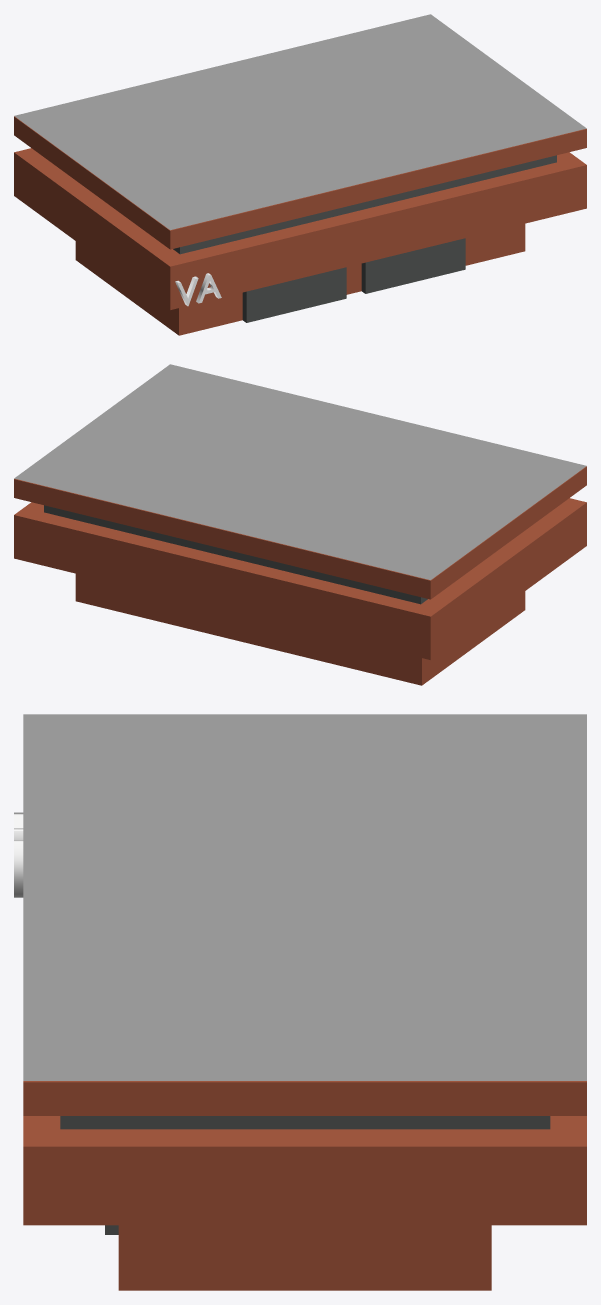
The model's file is block_VA.glb.
3 views of the same model, one above another, from view 1: azimuth 30°, elevation 25°; view 2: azimuth 150°, elevation 25°; view 3: azimuth 270°, elevation 25° (orthographic). The views are drawn at different scales.
Parts seen in each view (by area): view 1: Cube.003, Cube.002, Cube.022, Cube.023, Cube.001, Cube.024, Cube.021, Text; view 2: Cube.003, Cube.002, Cube.023, Cube.022, Cube.021; view 3: Cube.003, Cube.002, Cube.023, Cube.022, Cube.021, Text.
Part boxes in pixels (left/top/right/bottom): Cube.003: left=14, top=14, right=586, bottom=230; Cube.002: left=14, top=148, right=586, bottom=310; Cube.022: left=14, top=116, right=586, bottom=249; Cube.023: left=75, top=223, right=525, bottom=335; Cube.001: left=242, top=267, right=346, bottom=322; Cube.024: left=361, top=238, right=465, bottom=293; Cube.021: left=173, top=155, right=556, bottom=254; Text: left=175, top=273, right=221, bottom=306; Cube.003: left=14, top=364, right=586, bottom=580; Cube.002: left=14, top=498, right=586, bottom=660; Cube.023: left=75, top=573, right=525, bottom=685; Cube.022: left=14, top=466, right=586, bottom=599; Cube.021: left=44, top=505, right=427, bottom=604; Cube.003: left=23, top=714, right=586, bottom=1080; Cube.002: left=23, top=1116, right=586, bottom=1225; Cube.023: left=118, top=1225, right=491, bottom=1290; Cube.022: left=23, top=1081, right=586, bottom=1115; Cube.021: left=60, top=1116, right=550, bottom=1129; Text: left=14, top=812, right=23, bottom=897.
Bounding box in the file's own units: 0.5411 × 0.1656 × 0.3572.
